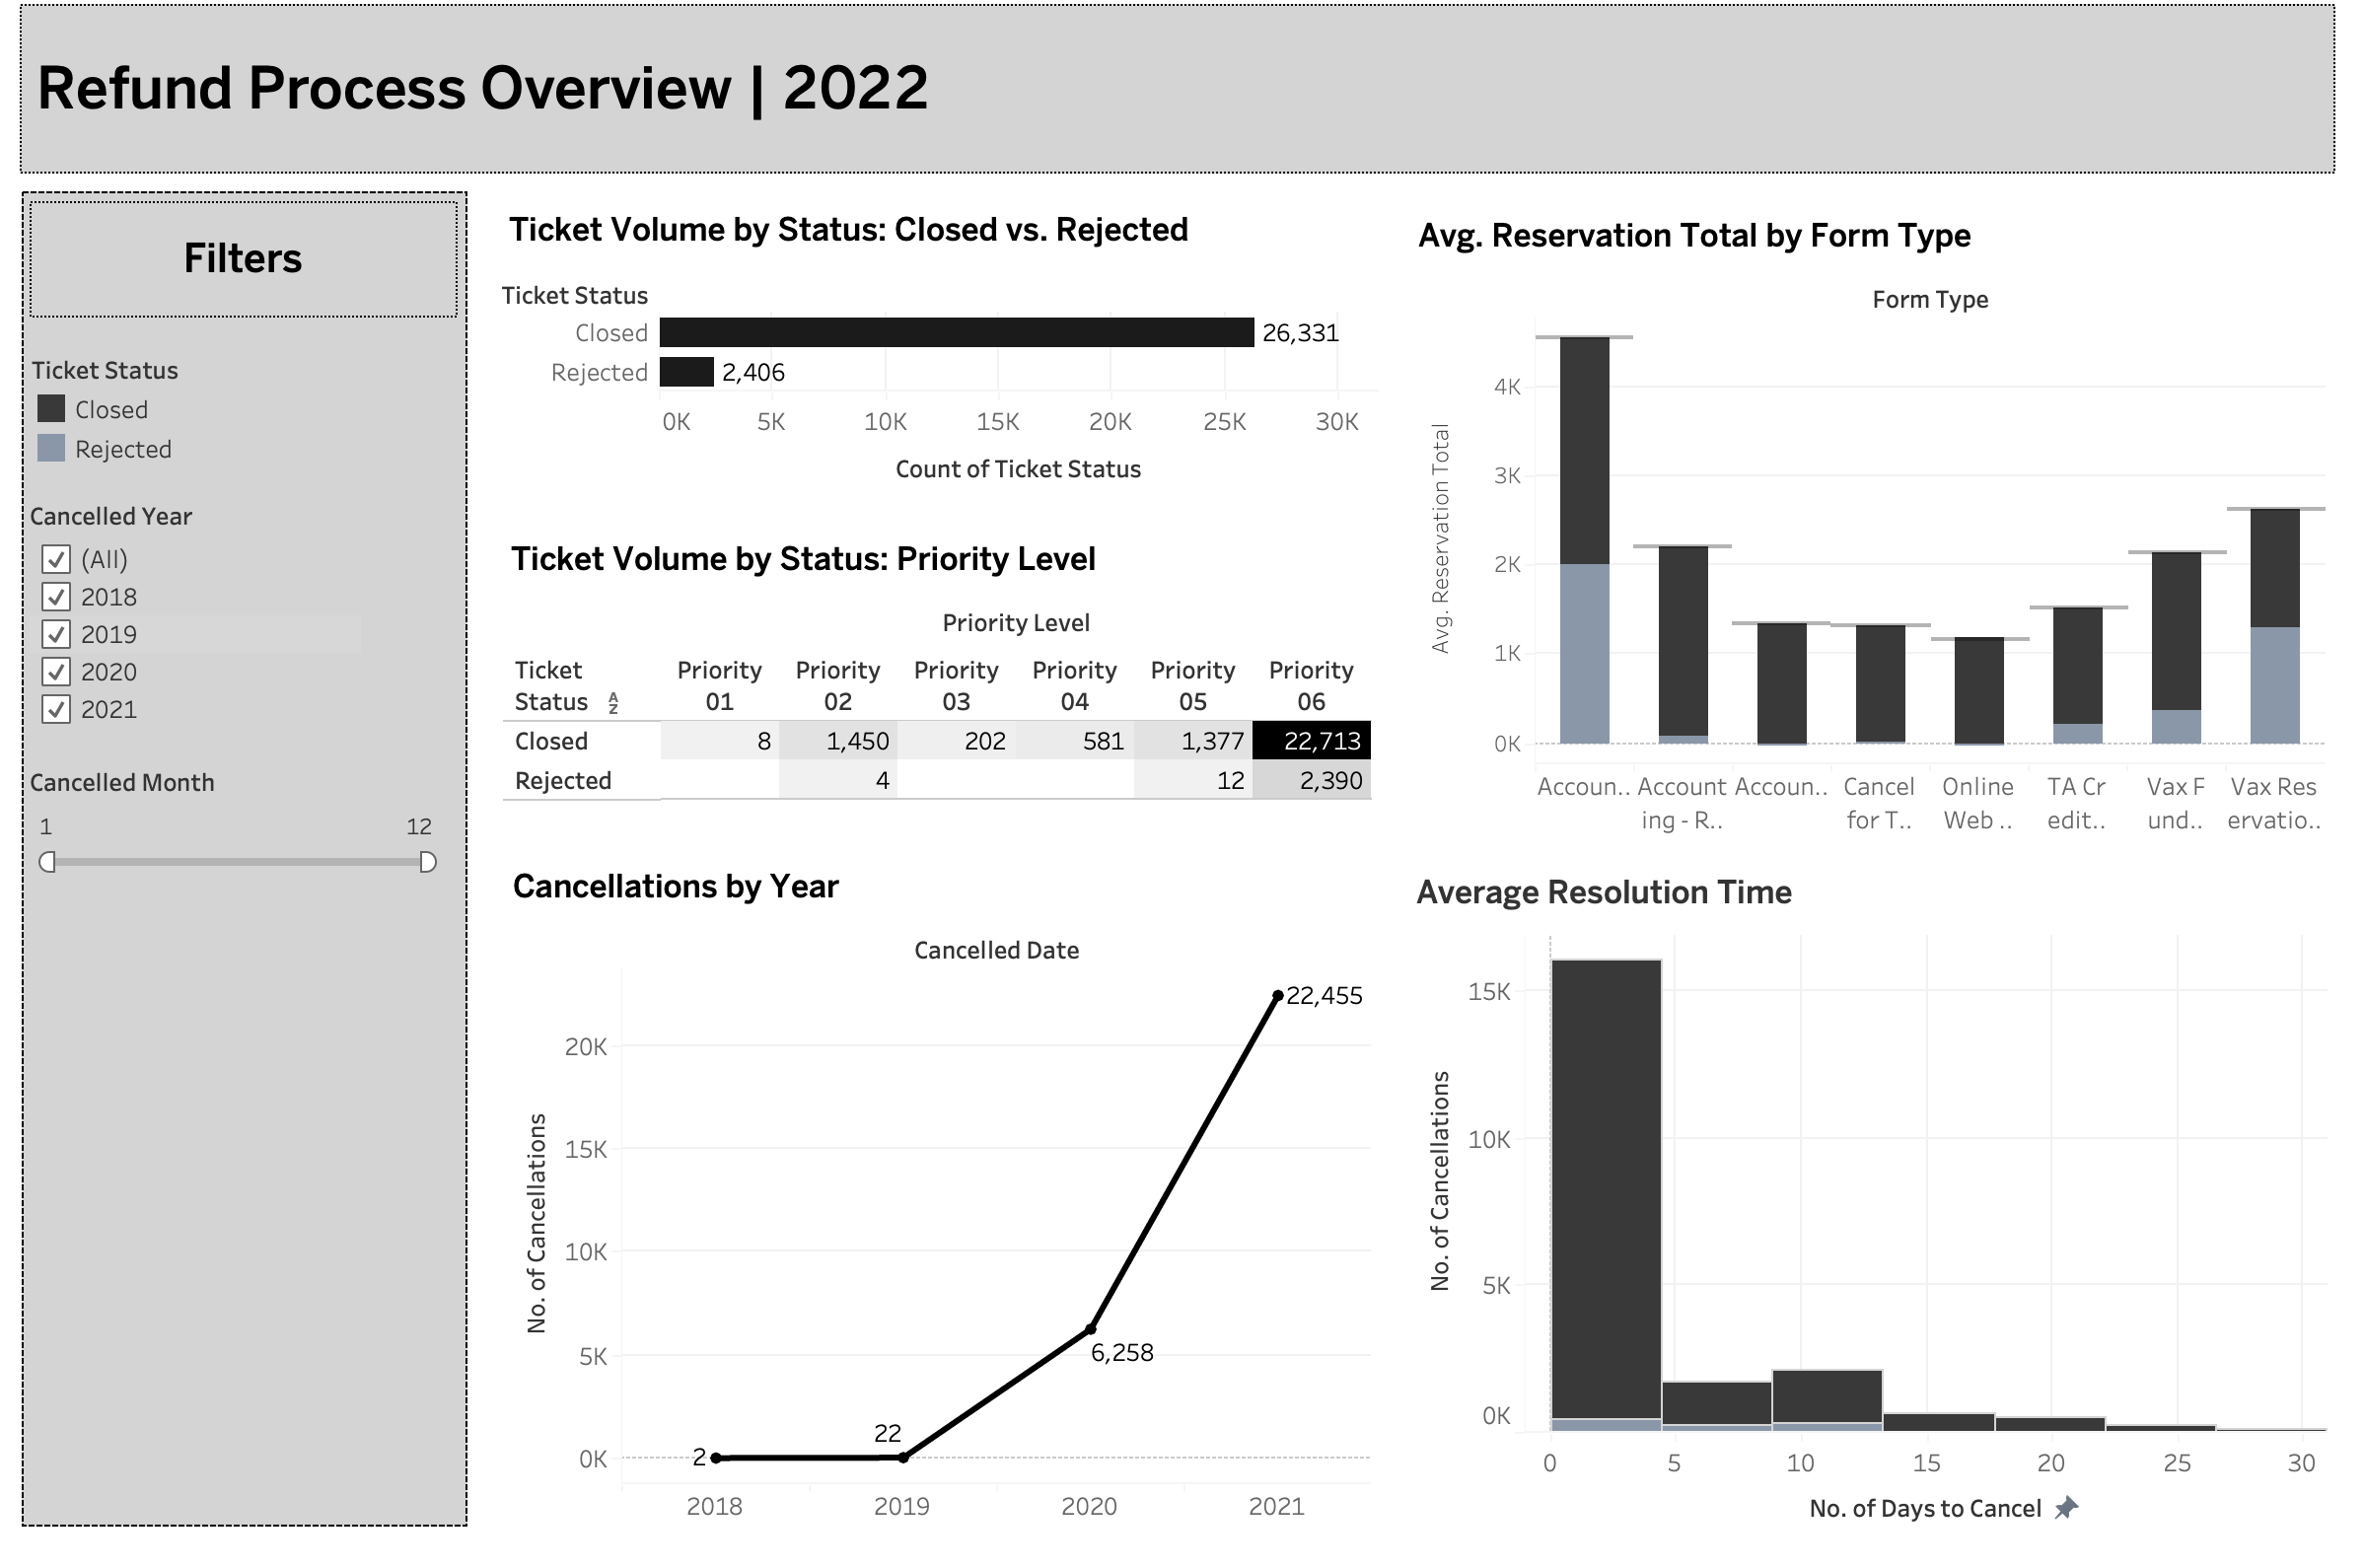

The dashboard page shown, as its layout file describes it:
{"tool":"tableau","page":{"name":"Dashboard 4","canvas":[1200,800],"ordinal":0},"visuals":[{"type":"blank","box":[11,6,1174,86]},{"type":"text","box":[17,16,506,66]},{"type":"blank","box":[12,101,226,677]},{"type":"worksheet","title":"Sheet 6","mark":"Automatic","rows":["Ticket Status"],"cols":["Ticket Status"],"box":[251,103,453,169]},{"type":"text","box":[16,106,217,59]},{"type":"worksheet","title":"Sheet 2","mark":"Bar","rows":["Reservation Total"],"cols":["Form Type"],"box":[712,106,472,329]},{"type":"legend","title":"Sheet 2","param":"[federated.1awqyx209xjd4218yh86l1b1fusp].[none:Ticket Status:nk]","box":[17,183,140,58]},{"type":"filter","title":"Sheet 6","param":"[federated.1awqyx209xjd4218yh86l1b1fusp].[none:Cancelled Year:ok]","box":[16,257,168,127]},{"type":"worksheet","title":"Sheet 3","mark":"Square","rows":["Ticket Status"],"cols":["Priority Level"],"box":[256,274,506,154]},{"type":"filter","title":"Sheet 6","param":"[federated.1awqyx209xjd4218yh86l1b1fusp].[none:Cancelled Month:qk]","box":[16,392,211,96]},{"type":"worksheet","title":"Sheet 4","mark":"Automatic","rows":["Ticket Status"],"cols":["Cancelled Date"],"box":[253,436,447,345]},{"type":"worksheet","title":"Sheet 5","mark":"Automatic","rows":["Ticket Status"],"cols":["Calculation1 (bin) 1"],"box":[711,439,474,349]}]}

Visuals, with their boxes in screenshot pixels (x1, y1, x2, y2), scaled from the page's 1200x800 canvas onto the 2365x1568 screenshot:
blank: {"left": 22, "top": 12, "right": 2335, "bottom": 180}
text: {"left": 34, "top": 32, "right": 1031, "bottom": 161}
blank: {"left": 24, "top": 198, "right": 469, "bottom": 1525}
"Sheet 6" worksheet: {"left": 495, "top": 202, "right": 1388, "bottom": 534}
text: {"left": 32, "top": 208, "right": 460, "bottom": 323}
"Sheet 2" worksheet (Bar marks): {"left": 1403, "top": 208, "right": 2333, "bottom": 853}
"Sheet 2" legend: {"left": 34, "top": 359, "right": 310, "bottom": 472}
"Sheet 6" filter: {"left": 32, "top": 504, "right": 363, "bottom": 752}
"Sheet 3" worksheet (Square marks): {"left": 505, "top": 537, "right": 1502, "bottom": 839}
"Sheet 6" filter: {"left": 32, "top": 768, "right": 448, "bottom": 957}
"Sheet 4" worksheet: {"left": 499, "top": 855, "right": 1380, "bottom": 1531}
"Sheet 5" worksheet: {"left": 1401, "top": 861, "right": 2335, "bottom": 1544}
